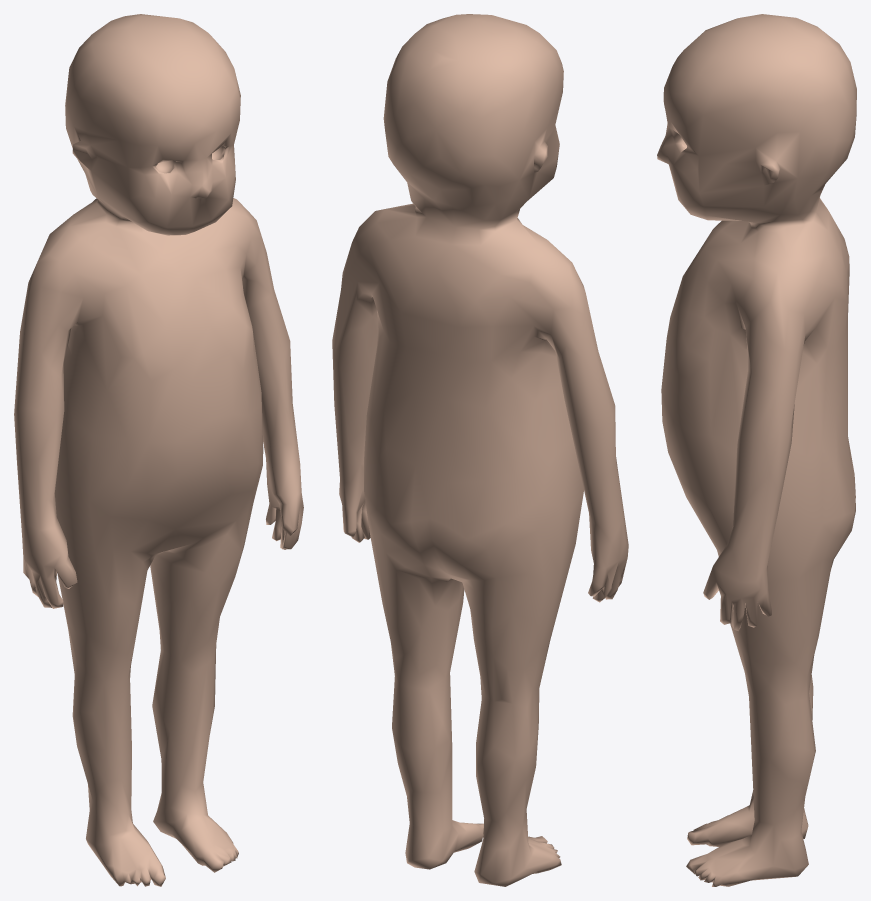
Rendered from pediatric_infant_female.surface.LOD3.glb.
The picture shows the model from 3 angles, left to right: view 1: azimuth 30°, elevation 25°; view 2: azimuth 150°, elevation 25°; view 3: azimuth 270°, elevation 25°; orthographic projection. The views are drawn at different scales.
Visible parts, largest first — view 1: PEDIATRIC.INFANT.FEMALE.SURFACE.SKIN; view 2: PEDIATRIC.INFANT.FEMALE.SURFACE.SKIN; view 3: PEDIATRIC.INFANT.FEMALE.SURFACE.SKIN.
Part boxes in pixels (<box>): PEDIATRIC.INFANT.FEMALE.SURFACE.SKIN: <box>14,14,303,886</box>; PEDIATRIC.INFANT.FEMALE.SURFACE.SKIN: <box>332,14,628,886</box>; PEDIATRIC.INFANT.FEMALE.SURFACE.SKIN: <box>657,14,856,886</box>.
Size of the model in its own units: 0.2613 by 0.7598 by 0.1653.
